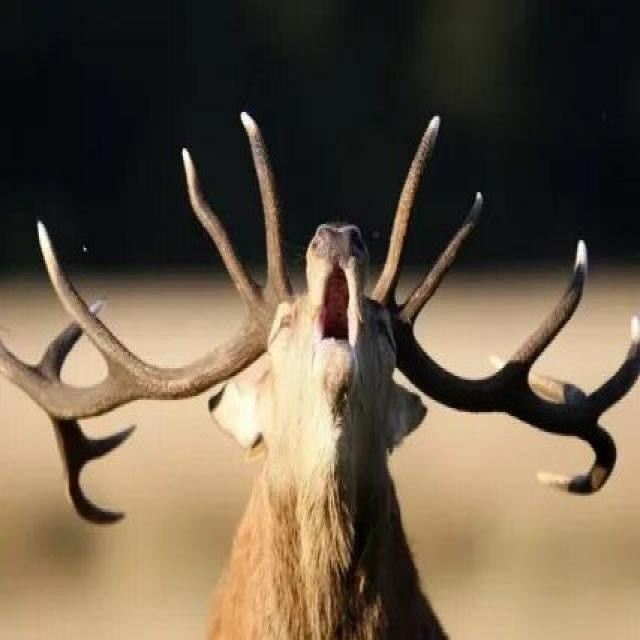deer: (166, 195, 482, 629)
